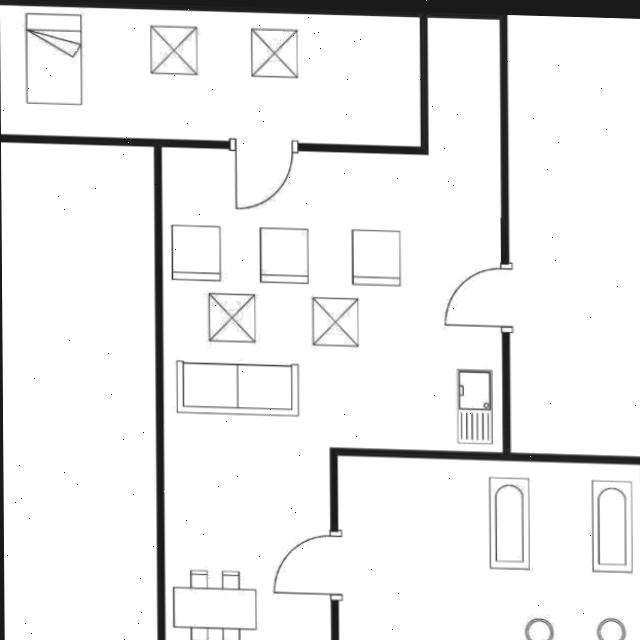room: (161, 18, 503, 640), (0, 7, 425, 145), (339, 457, 640, 640)
